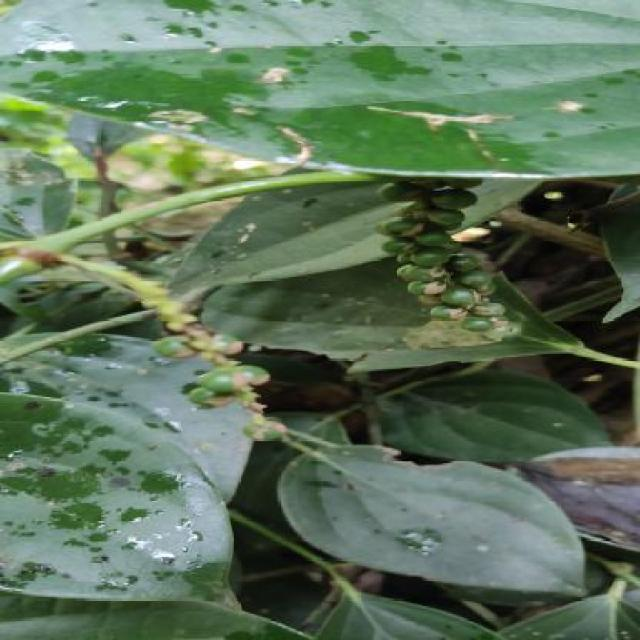UNRIPE: (380, 176, 506, 333)
